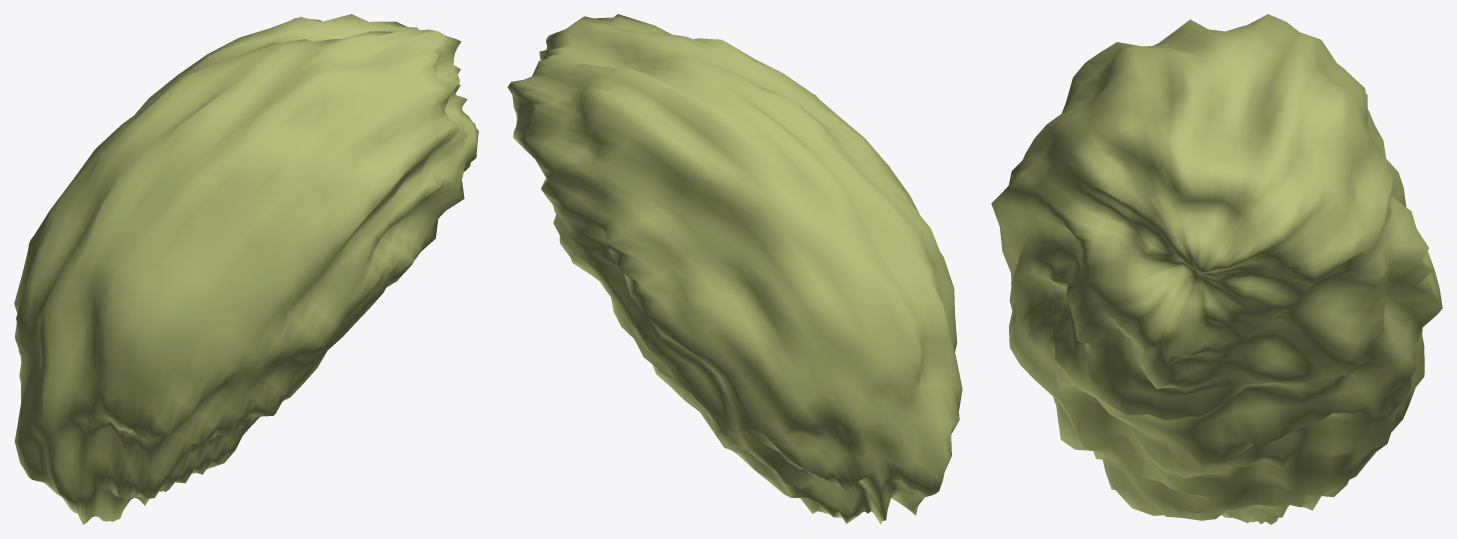
The model's file is garbage.dae.
The picture shows the model from 3 angles, left to right: view 1: azimuth 30°, elevation 25°; view 2: azimuth 150°, elevation 25°; view 3: azimuth 270°, elevation 25°; orthographic projection. The views are drawn at different scales.
Visible parts, largest first — view 1: Landscape; view 2: Landscape; view 3: Landscape.
Part boxes in pixels (x1,y1,x2,y2): Landscape: (14,14,478,524); Landscape: (507,14,962,524); Landscape: (991,14,1442,524).
Size of the model in its own units: 323 by 299 by 201.
